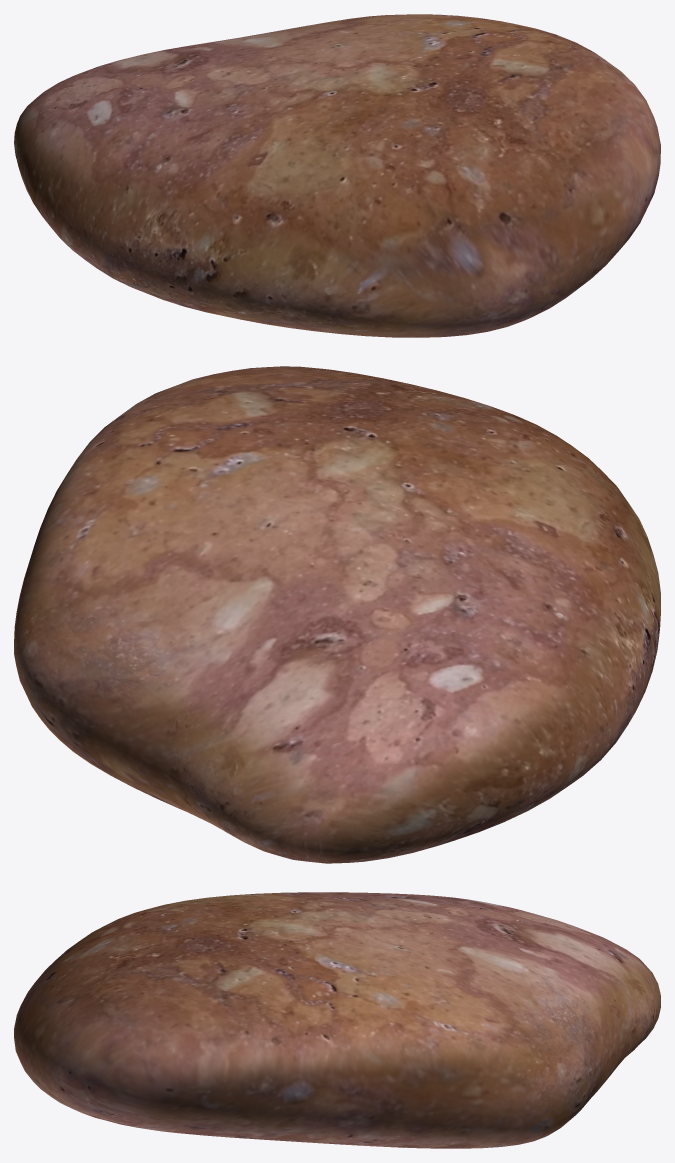
The model's file is BeachRock2.fbx.
3 renders of one model, top to bottom at view 1: azimuth 30°, elevation 25°; view 2: azimuth 150°, elevation 25°; view 3: azimuth 270°, elevation 25°, orthographic. The views are drawn at different scales.
Parts seen in each view (by area): view 1: BeachRock2_LOD0; view 2: BeachRock2_LOD0; view 3: BeachRock2_LOD0.
Part boxes in pixels (x1,y1,x2,y2): BeachRock2_LOD0: (14, 14, 660, 337); BeachRock2_LOD0: (14, 366, 660, 863); BeachRock2_LOD0: (14, 892, 660, 1148).
Size of what is drawn, in the model's own units: 20.15 by 8.4 by 24.49.
